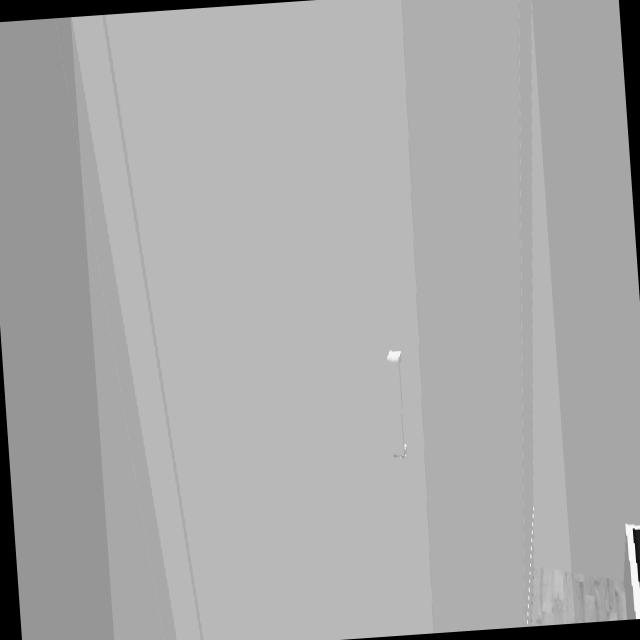shower: (70, 0, 534, 640)
